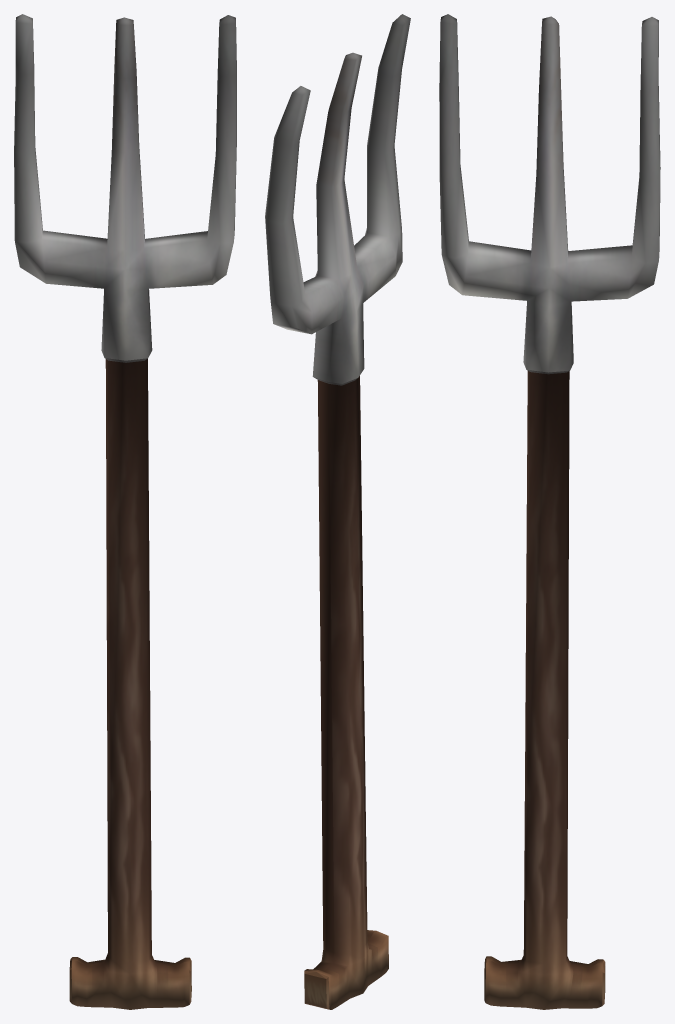
File: Fork.FBX
3 renders of one model, left to right at view 1: azimuth 90°, elevation 25°; view 2: azimuth 150°, elevation 25°; view 3: azimuth 270°, elevation 25°, orthographic. The views are drawn at different scales.
Visible parts, largest first — view 1: Fork; view 2: Fork; view 3: Fork.
Part boxes in pixels (box(x1,y1,x2,y2)): Fork: box(14, 14, 236, 1009); Fork: box(265, 14, 410, 1009); Fork: box(439, 14, 660, 1009).
Size of the model in its own units: 0.1075 by 2.03 by 0.4126.
